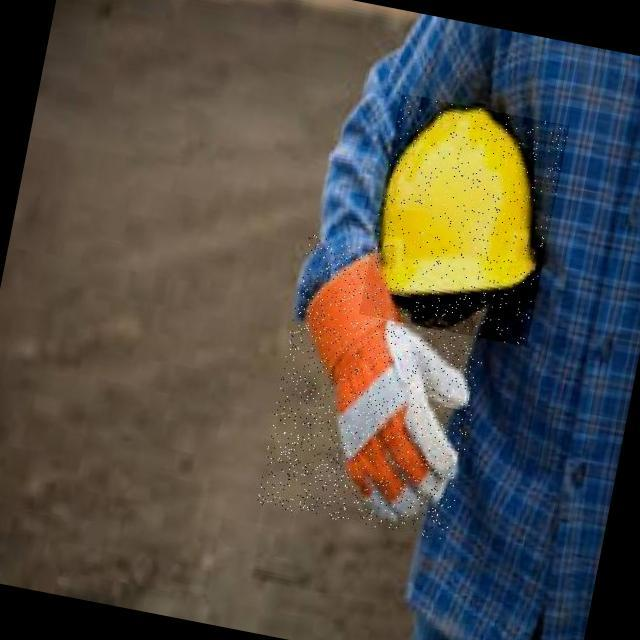Gloves: (296, 244, 482, 527)
Helmet: (381, 90, 539, 306)
